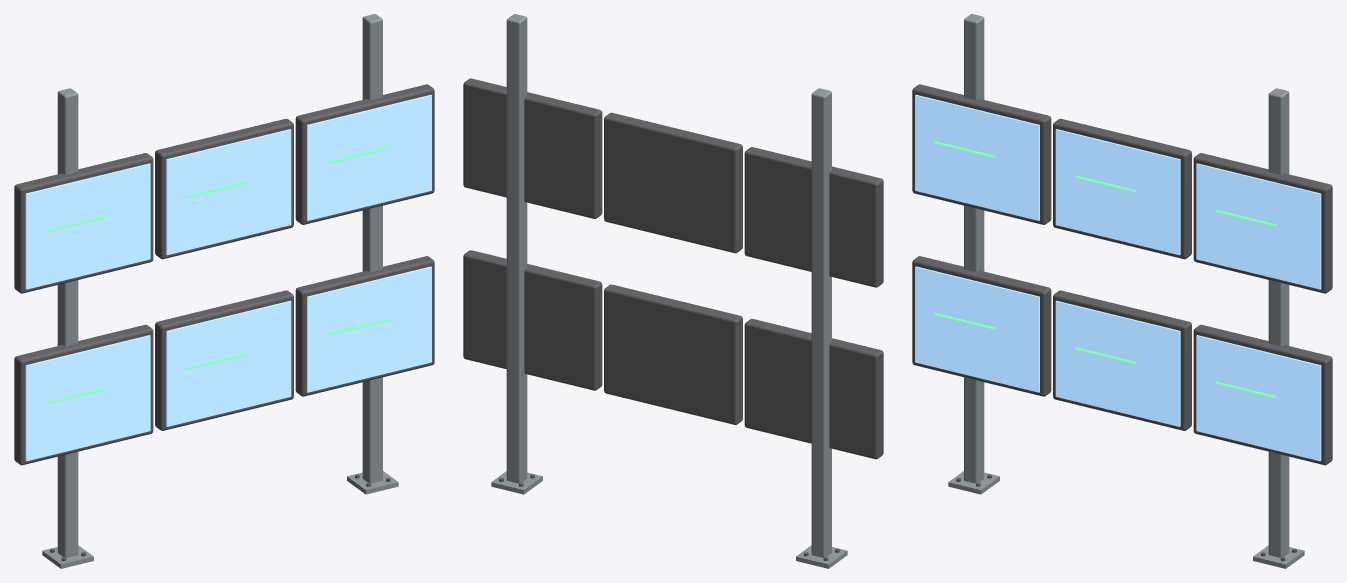
The model's file is prison-complex-builder-monitor-bank-539a3efe__25647.glb.
3 renders of one model, left to right at view 1: azimuth 30°, elevation 25°; view 2: azimuth 150°, elevation 25°; view 3: azimuth 330°, elevation 25°, orthographic.
Visible parts, largest first — view 1: monitor-bank; view 2: monitor-bank; view 3: monitor-bank.
Boxes of the visible parts, <box> form: monitor-bank: <box>14,14,434,568</box>; monitor-bank: <box>463,14,883,568</box>; monitor-bank: <box>912,14,1332,568</box>.
Bounding box in the file's own units: 1.77 × 1.9 × 0.1426.
